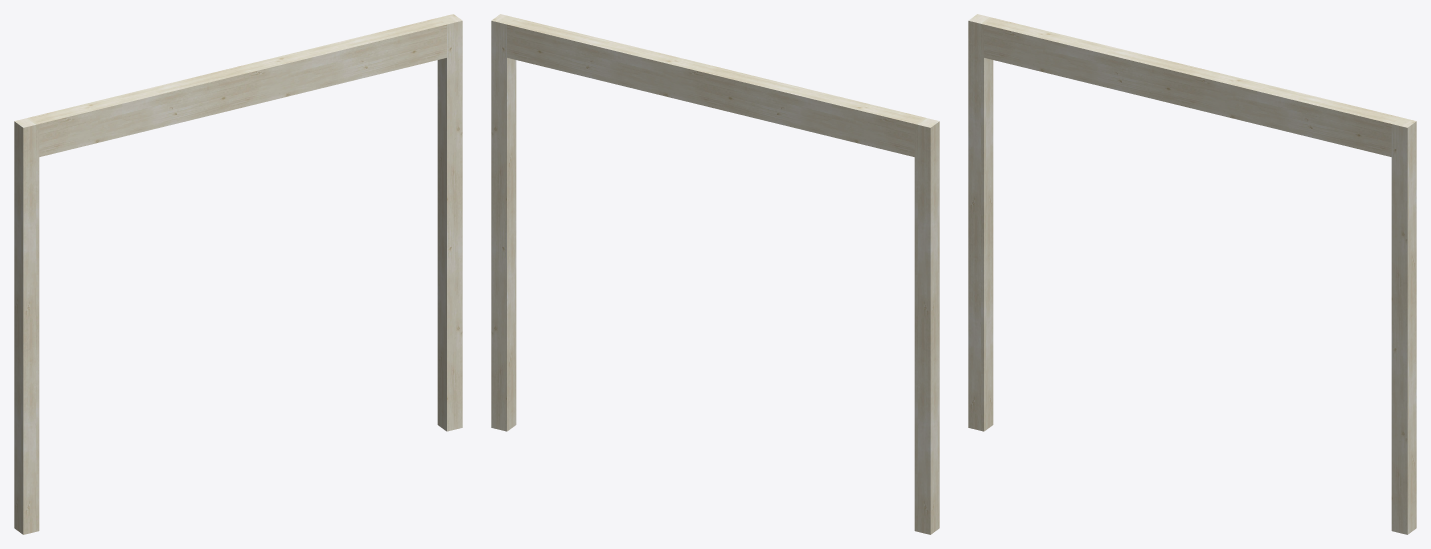
The model's file is hyr-frame_h22-w27_whitepine.fbx.
The picture shows the model from 3 angles, left to right: view 1: azimuth 30°, elevation 25°; view 2: azimuth 150°, elevation 25°; view 3: azimuth 330°, elevation 25°; orthographic projection.
Visible parts, largest first — view 1: hyr-frame_h22-w27_whitepine; view 2: hyr-frame_h22-w27_whitepine; view 3: hyr-frame_h22-w27_whitepine.
Part boxes in pixels (left/top/right/bottom): hyr-frame_h22-w27_whitepine: left=14, top=14, right=462, bottom=534; hyr-frame_h22-w27_whitepine: left=491, top=14, right=939, bottom=534; hyr-frame_h22-w27_whitepine: left=968, top=14, right=1416, bottom=534.
Size of the model in its own units: 277 by 245 by 10.
1 material, 1 textured.
